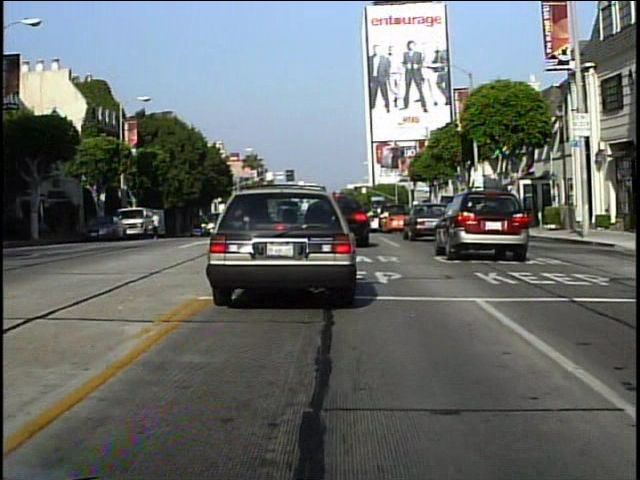person: (152, 208, 164, 241)
